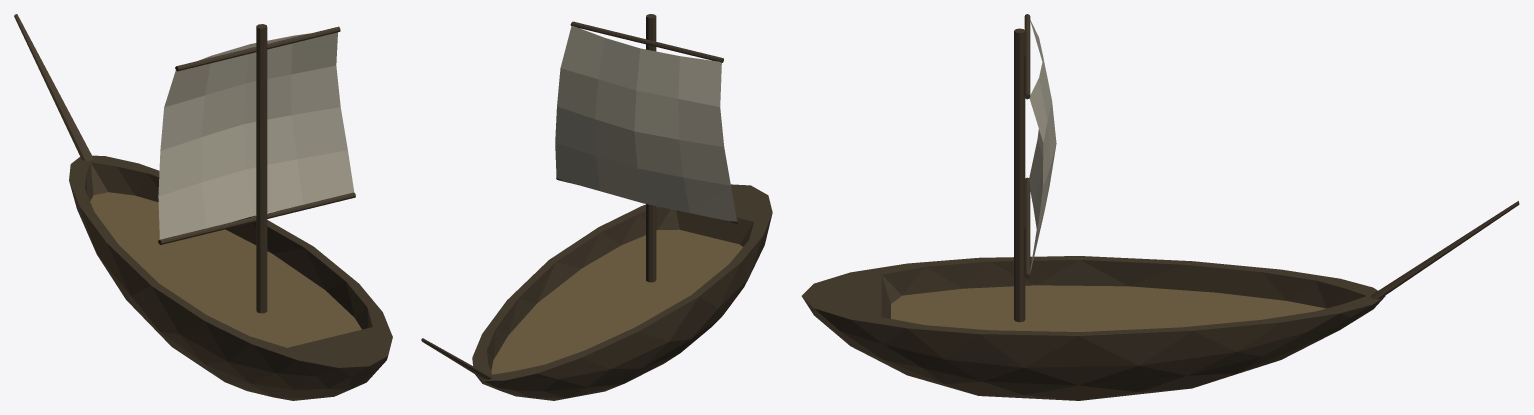
Rendered from roman_boat_fishing.fbx.
The picture shows the model from 3 angles, left to right: view 1: azimuth 30°, elevation 25°; view 2: azimuth 150°, elevation 25°; view 3: azimuth 270°, elevation 25°; orthographic projection. The views are drawn at different scales.
Visible parts, largest first — view 1: Icosphere.004, Plane.002, Cylinder.020; view 2: Icosphere.004, Plane.002, Cylinder.020; view 3: Icosphere.004, Cylinder.020, Plane.002.
Part boxes in pixels (x1,y1,x2,y2): Icosphere.004: [69, 155, 392, 400]; Plane.002: [158, 32, 354, 239]; Cylinder.020: [14, 14, 355, 313]; Icosphere.004: [472, 184, 772, 400]; Plane.002: [555, 26, 736, 221]; Cylinder.020: [421, 14, 739, 379]; Icosphere.004: [801, 256, 1385, 400]; Cylinder.020: [1014, 14, 1519, 322]; Plane.002: [1029, 20, 1056, 274].
Bounding box in the file's own units: 2.42 × 4.2 × 7.57.
